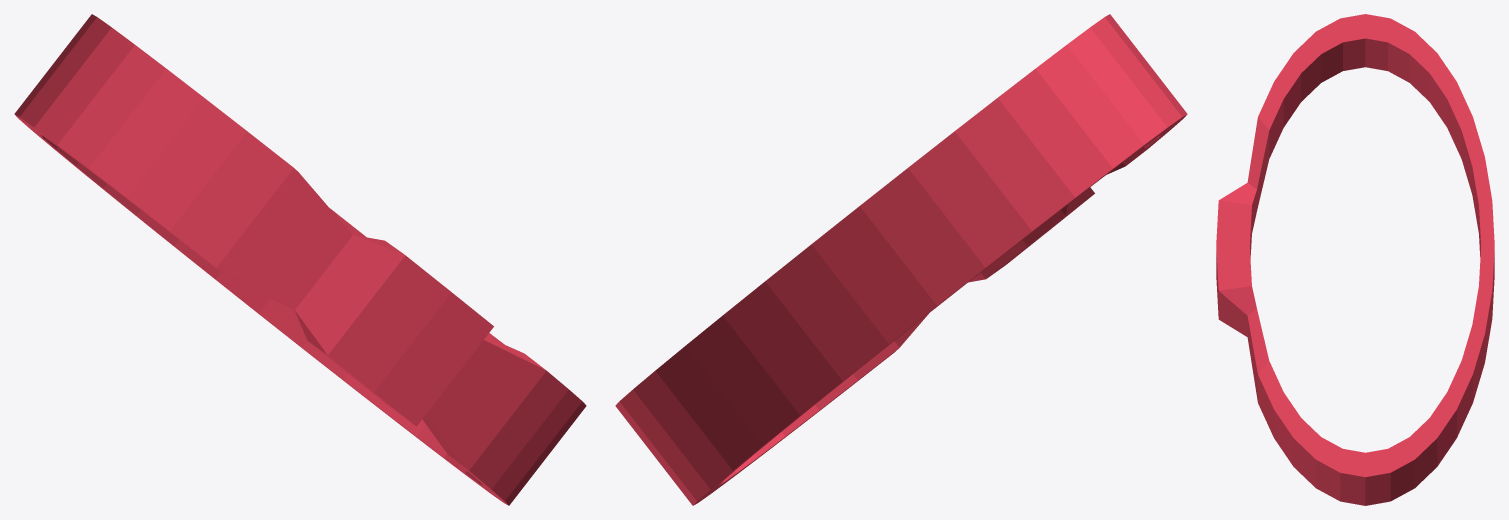
File: Phany_pack.fbx
The picture shows the model from 3 angles, left to right: view 1: azimuth 30°, elevation 25°; view 2: azimuth 150°, elevation 25°; view 3: azimuth 270°, elevation 25°; orthographic projection. The views are drawn at different scales.
Parts seen in each view (by area): view 1: Phany pack; view 2: Phany pack; view 3: Phany pack.
Part boxes in pixels (bbox=[...]): Phany pack: bbox=[14, 14, 586, 505]; Phany pack: bbox=[615, 14, 1187, 505]; Phany pack: bbox=[1216, 14, 1494, 505].
Size of the model in its own units: 45.81 by 45.81 by 31.28.
